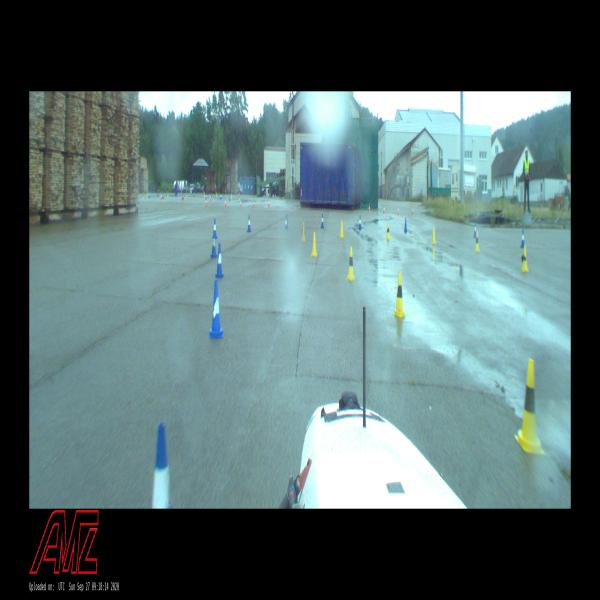blue_cone: (152, 422, 168, 507), (209, 283, 223, 338), (216, 244, 224, 278), (211, 234, 217, 258), (213, 219, 217, 239), (521, 229, 524, 247), (248, 216, 251, 232), (358, 215, 361, 230), (321, 214, 324, 228), (404, 218, 407, 232), (286, 213, 288, 229), (474, 223, 476, 237), (182, 194, 184, 200), (163, 192, 164, 199)
orange_cone: (383, 205, 385, 214), (206, 198, 208, 207), (210, 194, 212, 202), (253, 200, 255, 208), (240, 199, 242, 207), (398, 208, 400, 215), (160, 193, 162, 200), (268, 199, 270, 206), (225, 198, 226, 208), (412, 206, 413, 215), (369, 204, 370, 212)
yellow_cone: (516, 358, 544, 454), (393, 272, 406, 316), (347, 247, 355, 281), (522, 247, 528, 272), (312, 232, 317, 256), (475, 232, 479, 252), (302, 221, 306, 241), (386, 222, 390, 240), (432, 226, 436, 244), (340, 220, 344, 238), (186, 190, 188, 197), (167, 190, 169, 197), (238, 195, 240, 200), (216, 193, 218, 198), (204, 192, 205, 198)
